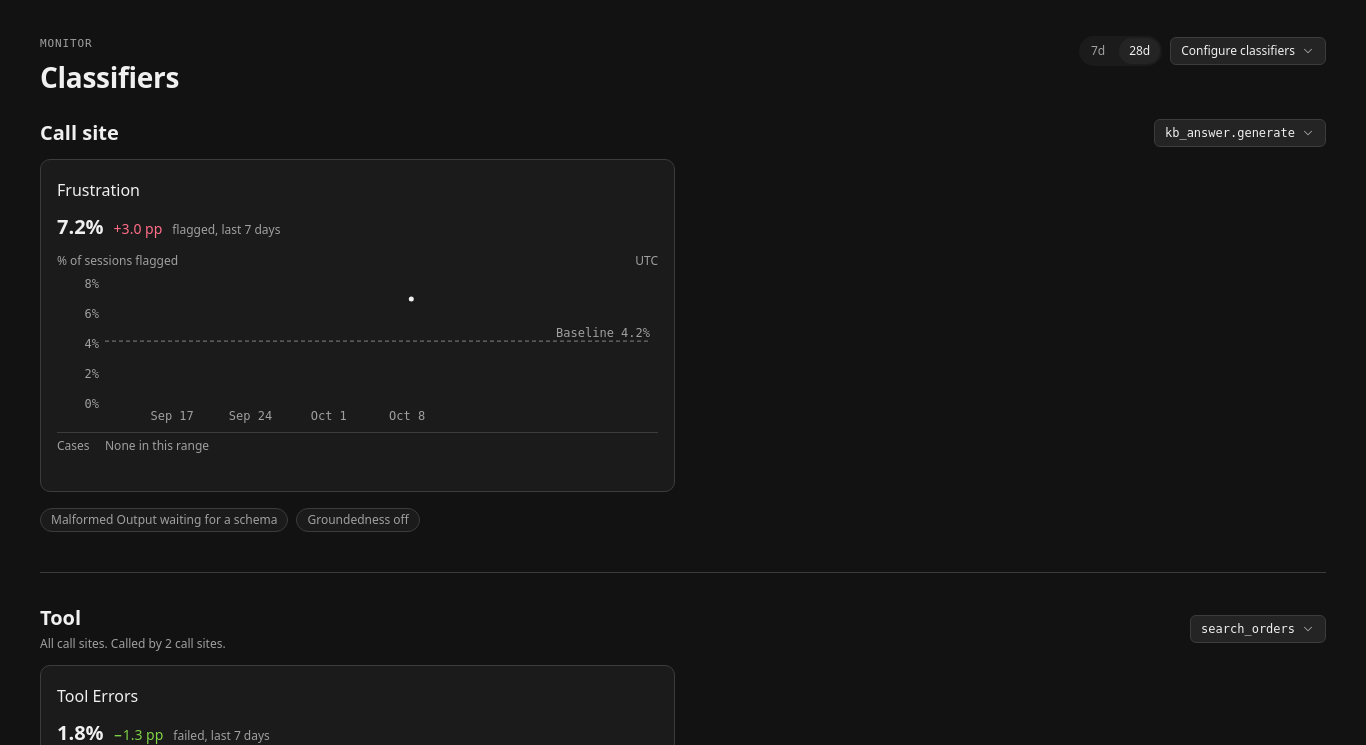
Test: ClassifiersPage › says a new range is loading while the old range's cards stay up
The image size is (1366, 745).
Expected: the element "Frustration" is shown, [40,159,675,492]
Expected: the text "Loading the last" is not shown
Step 1. Click the button "7d" → click(1098, 51), box [1081,38,1115,64]
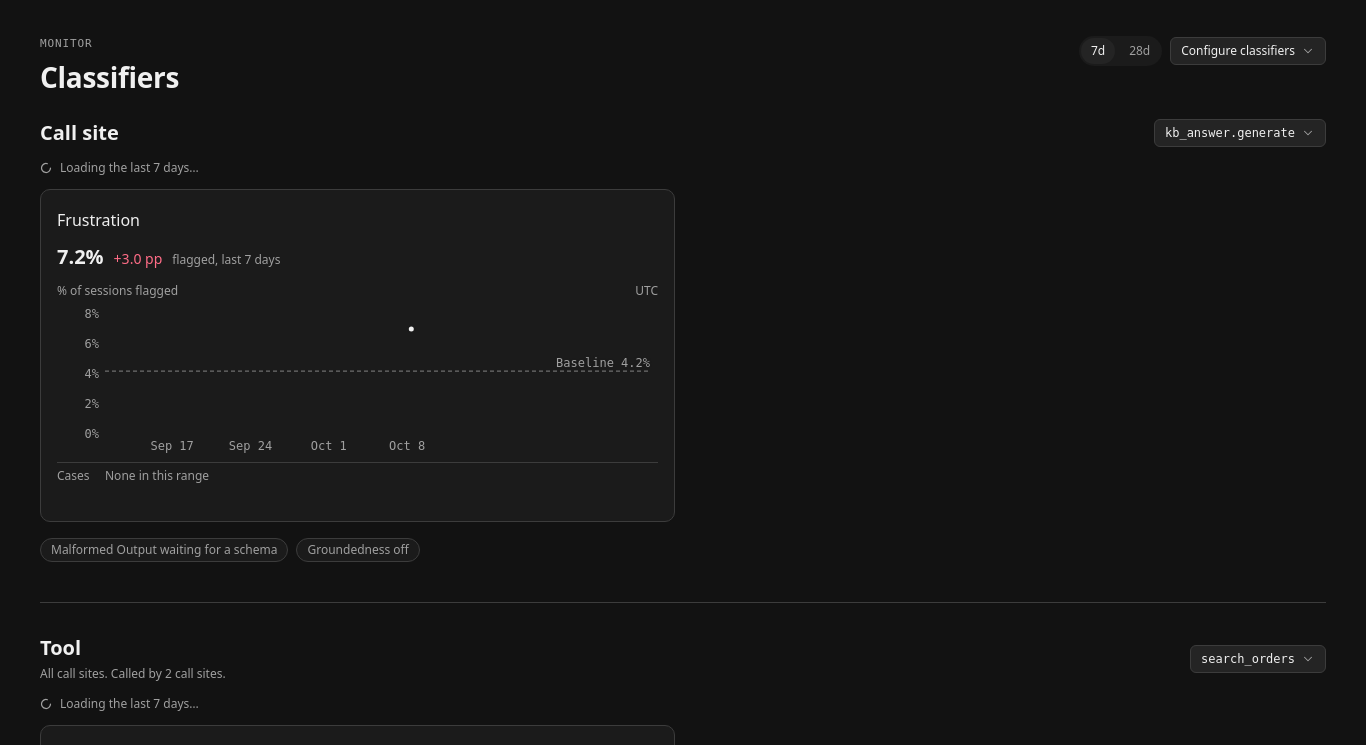
Expected: the element "Frustration" is shown, [40,189,675,522]
Expected: the 1st text "Loading the last 7 days…" is shown, [60,159,199,177]
